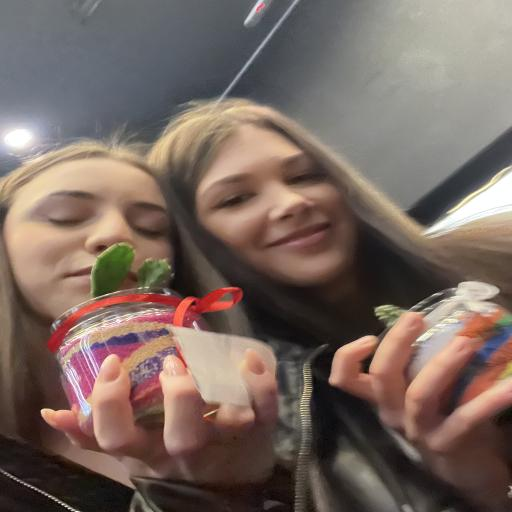masa: (4, 161, 169, 326)
